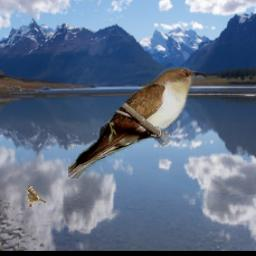Cuckoo: (68, 66, 207, 180)
Sparrow: (26, 185, 46, 207)
